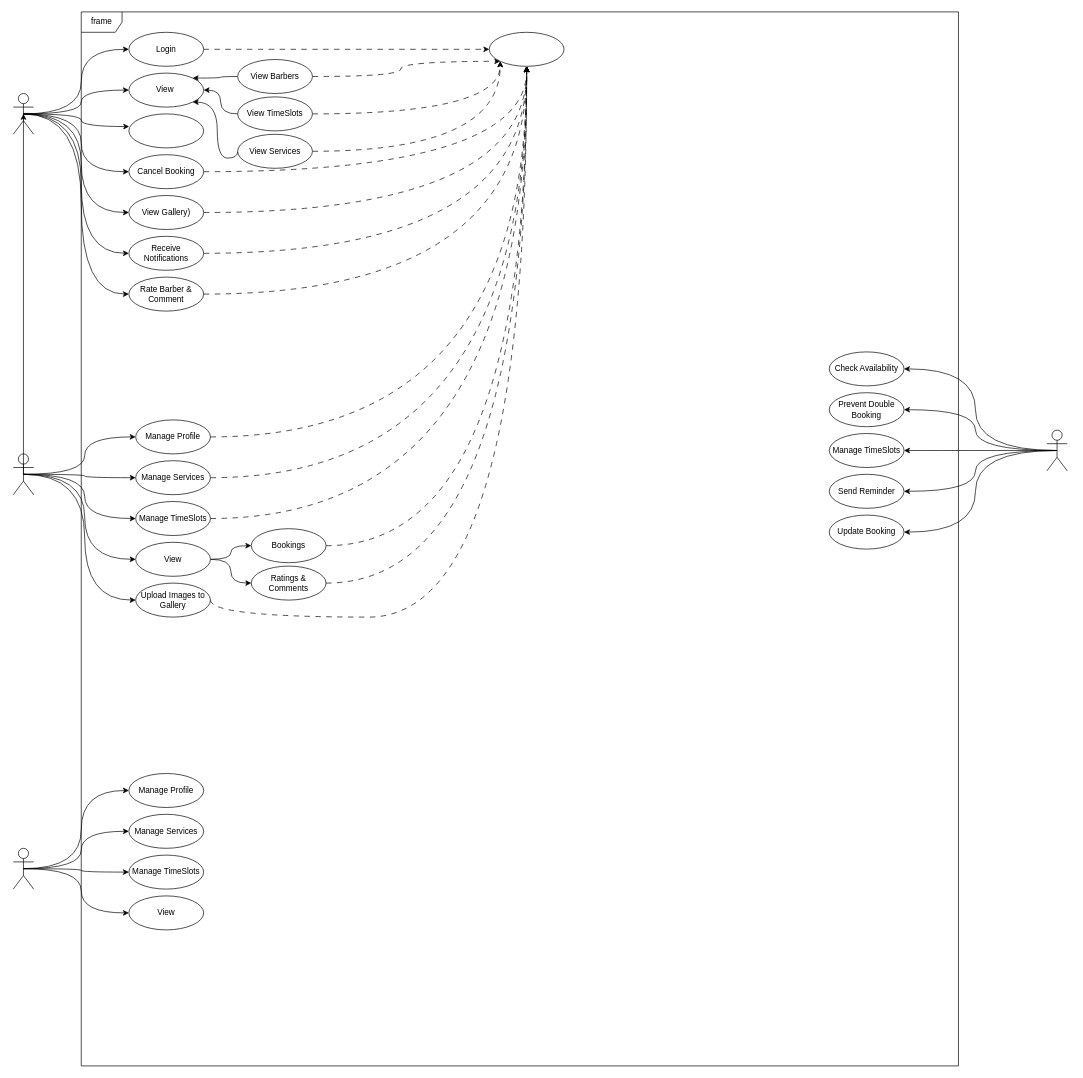
Image size: 1083x1078. Some labels were removed from this diagram. The shapes that lost their labels are listed below. From the top down, each one's box as (x1, y1, x2, y2) in pixels, then its label:
(489, 32, 564, 66): Register
(13, 93, 34, 134): user
(128, 113, 204, 148): Book Appointment
(1046, 429, 1067, 471): systime
(13, 453, 34, 495): barber
(13, 848, 34, 889): admin
